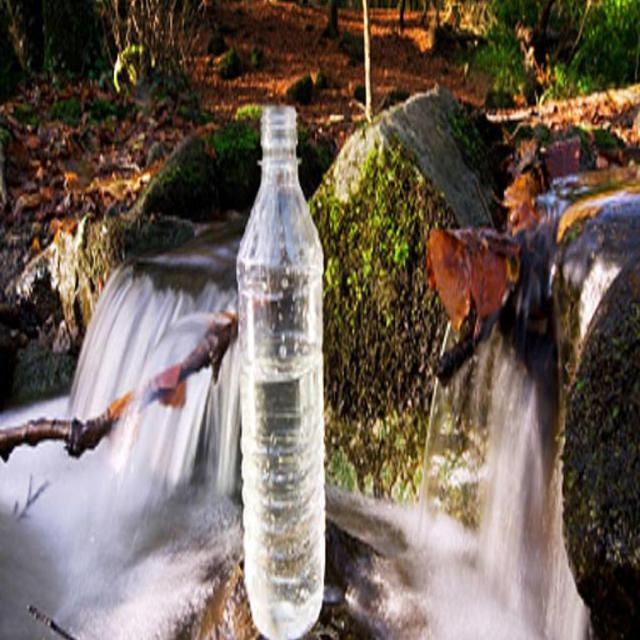bottle: (230, 84, 345, 640)
